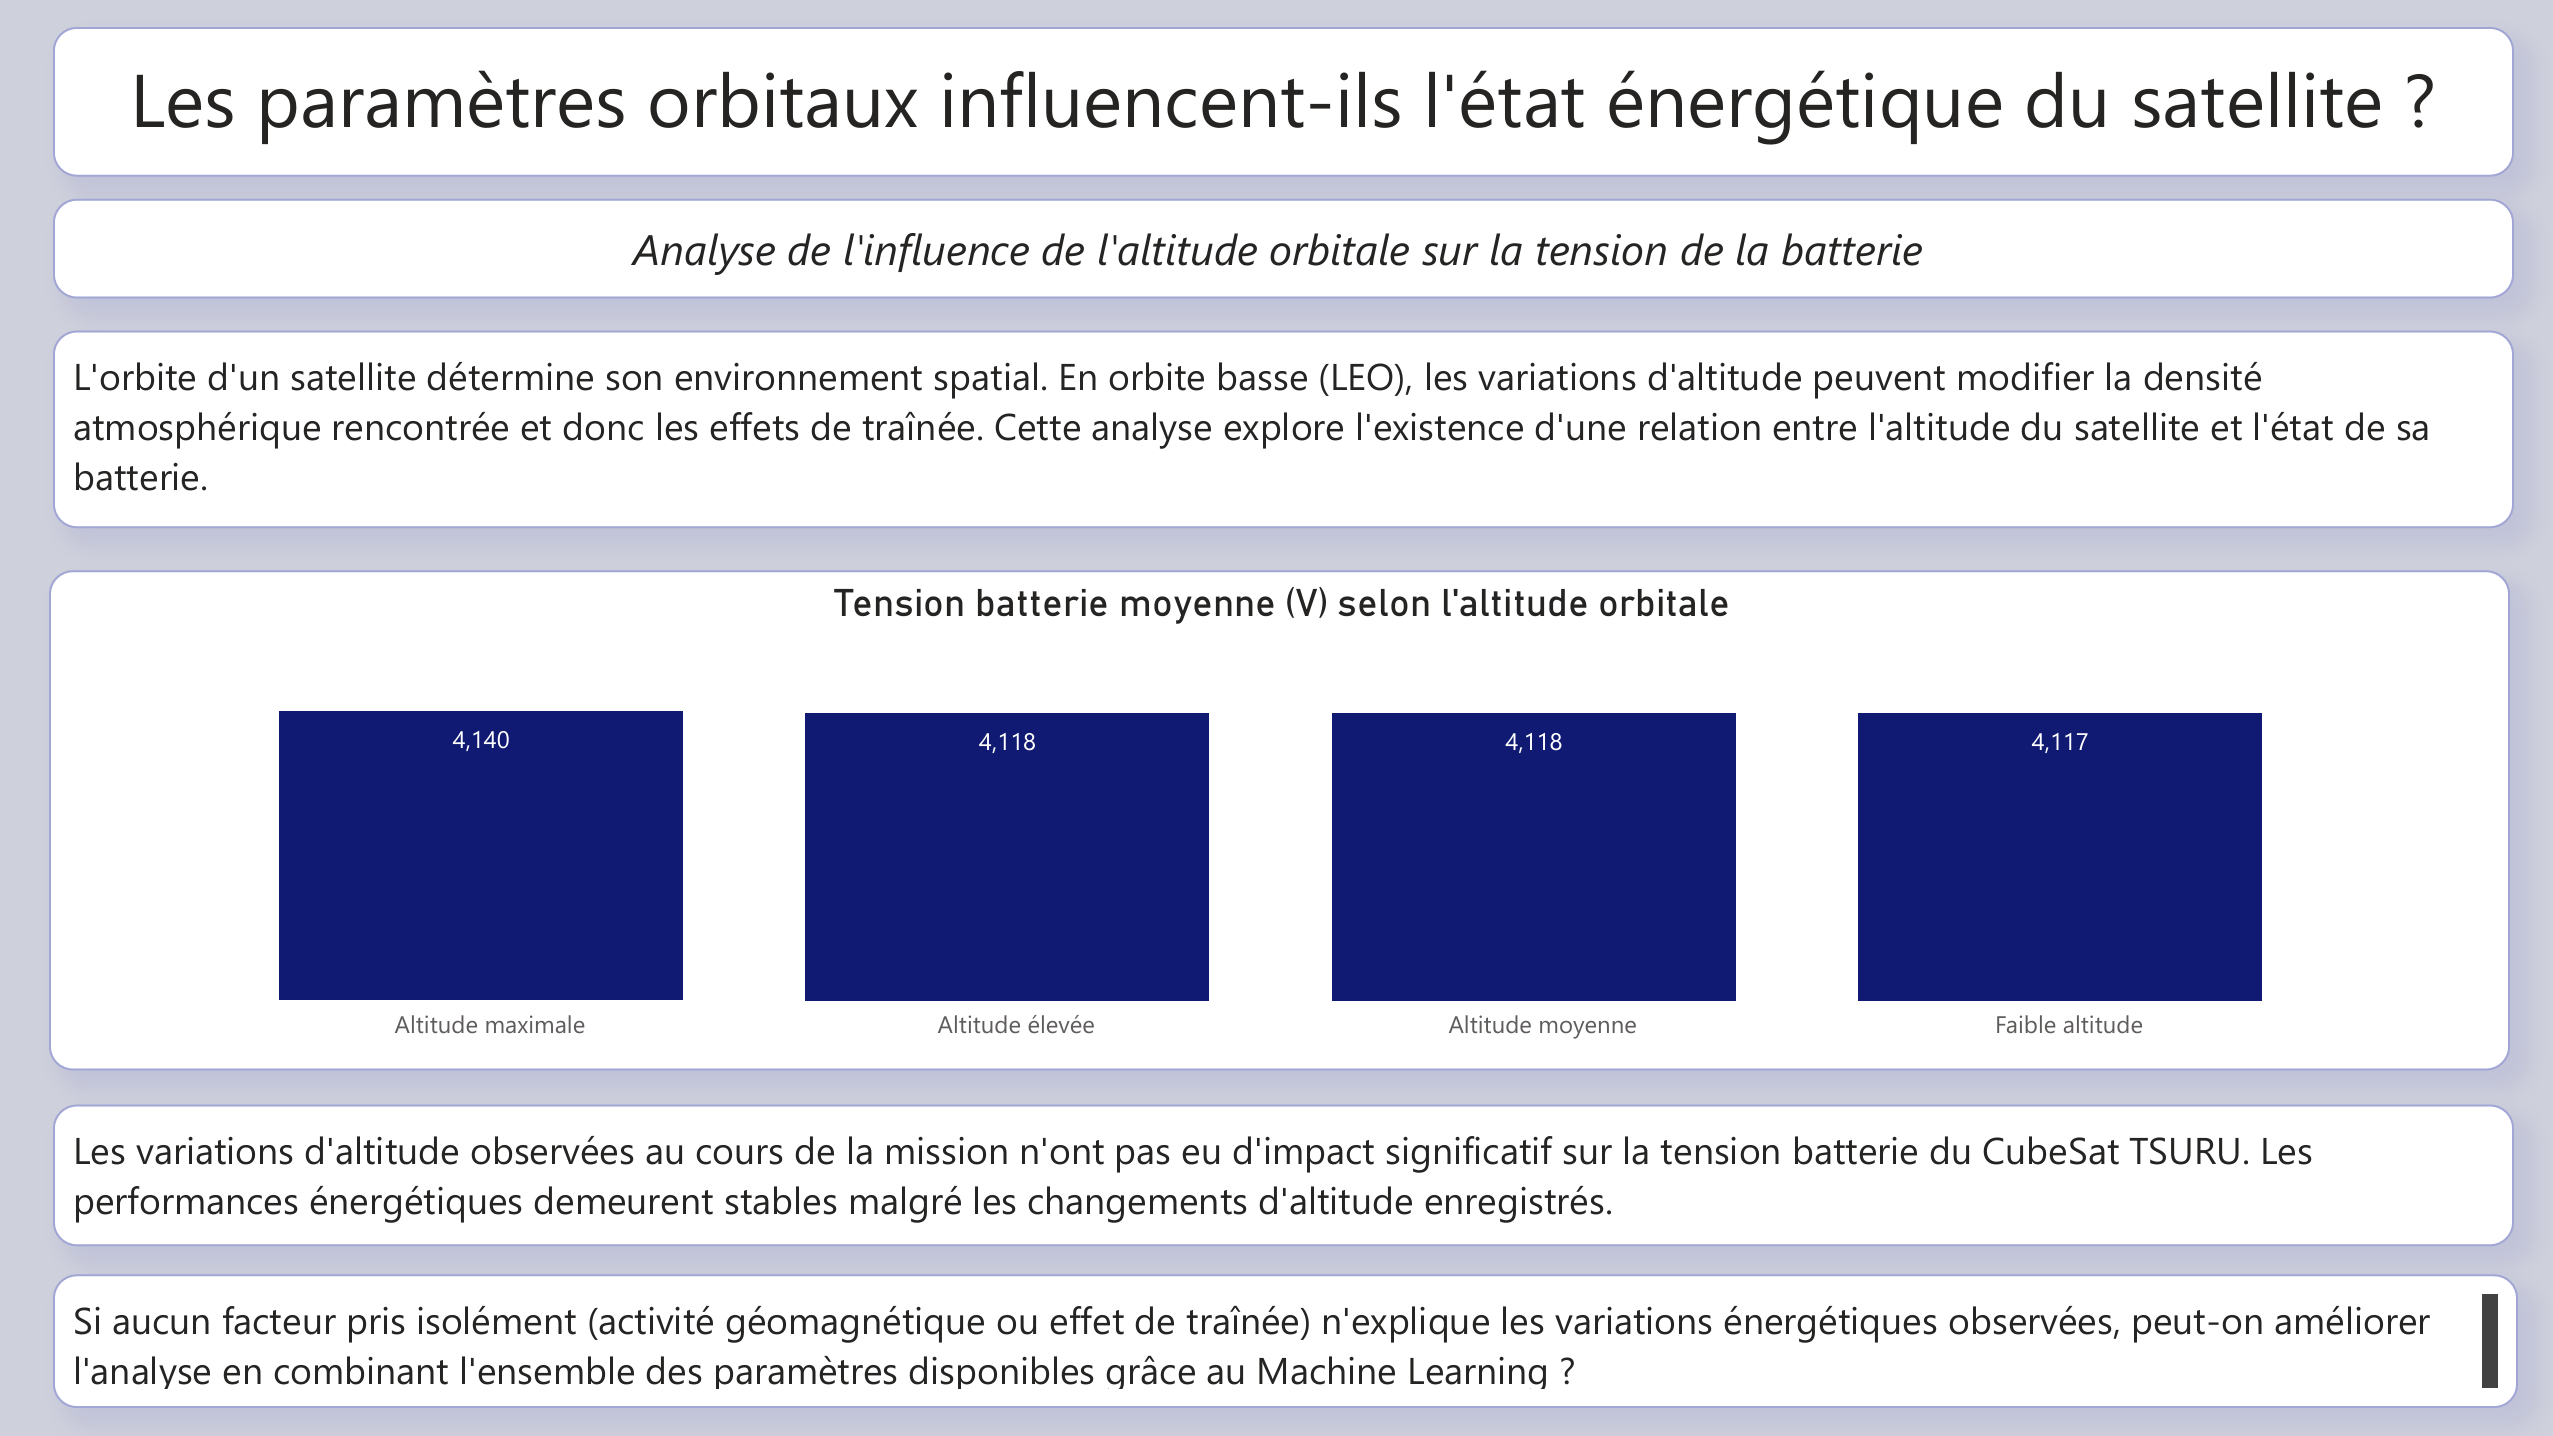

Layout of this report page (visuals, bound fields, positions):
{"tool":"powerbi","page":{"name":"05 Influence de l'altitude (drag) sur la batterie","canvas":[1280,720],"ordinal":4},"visuals":[{"type":"textbox","box":[26.4,14.2,1231.2,75.2],"z":0},{"type":"textbox","box":[25.8,166,1232.4,98.8],"z":1000},{"type":"textbox","box":[26.4,552.6,1231.2,71.1],"z":2000},{"type":"textbox","box":[26.4,99.6,1231.2,50.8],"z":3000},{"type":"columnChart","title":"Tension batterie moyenne (V) selon l''altitude orbitale","fields":{"Y":["Avg(BIRDS_Fact_eps_telemetry.battery_voltage_V)"],"Category":["BIRDS_Fact_eps_telemetry.Altitude Classe"]},"box":[24.4,286.5,1231.2,249.9],"z":4000},{"type":"textbox","box":[26.4,638,1233.3,67],"z":5000}]}

Visuals, with their boxes in screenshot pixels (x1, y1, x2, y2), scaled from the page's 1280x720 canvas onto the 2553x1436 screenshot:
textbox: left=53, top=28, right=2508, bottom=178
textbox: left=51, top=331, right=2510, bottom=528
textbox: left=53, top=1102, right=2508, bottom=1244
textbox: left=53, top=199, right=2508, bottom=300
"Tension batterie moyenne (V) selon l''altitude orbitale" columnChart: left=49, top=571, right=2504, bottom=1070
textbox: left=53, top=1272, right=2513, bottom=1406
